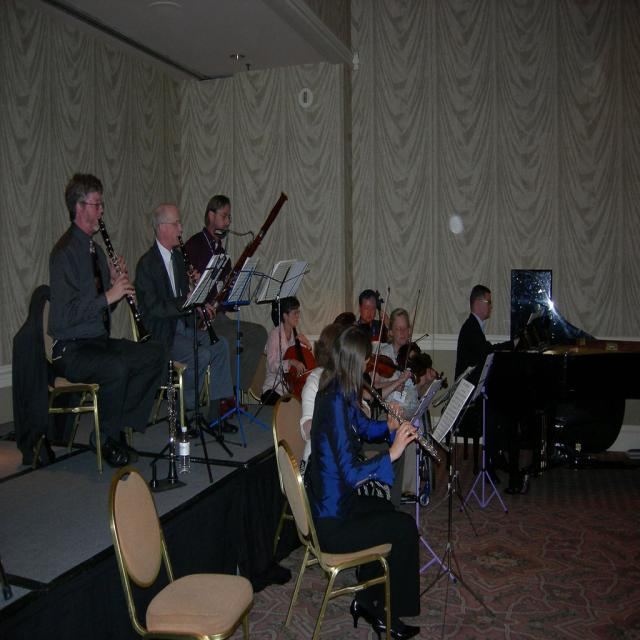cello: (281, 317, 319, 404)
clarinet: (98, 216, 152, 346), (177, 237, 220, 346)
violin: (399, 339, 449, 394), (367, 351, 421, 384)
